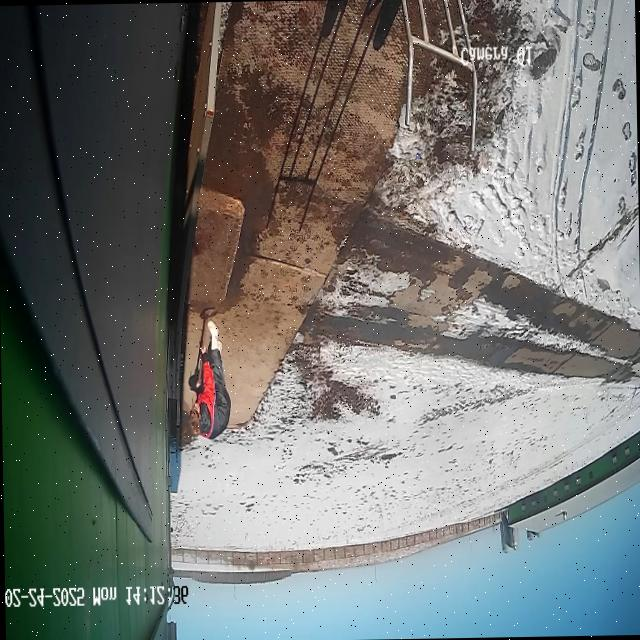Red uniform: (185, 308, 232, 442)
